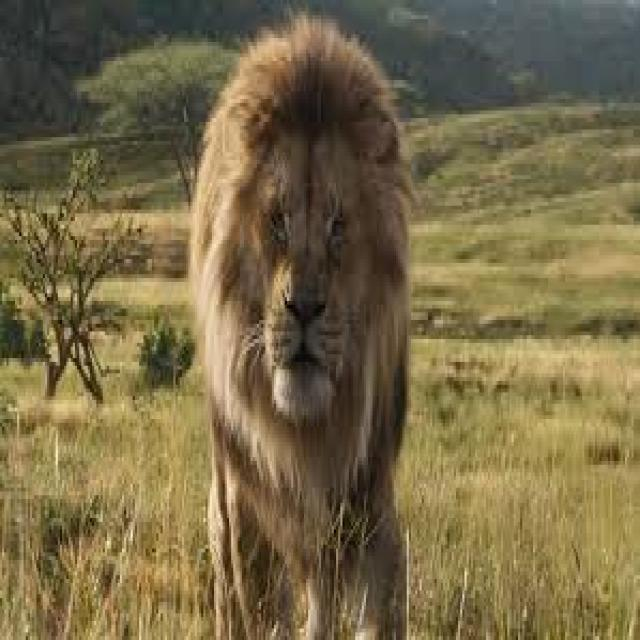Lion: (214, 43, 411, 636)
